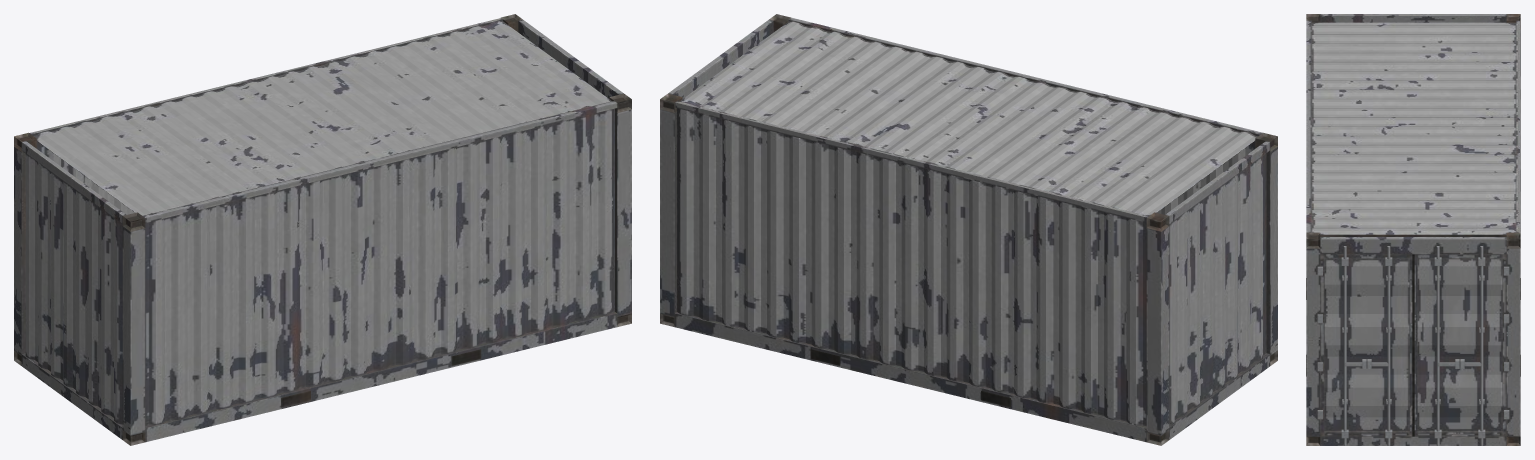
Rendered from container.glb.
The picture shows the model from 3 angles, left to right: view 1: azimuth 30°, elevation 25°; view 2: azimuth 150°, elevation 25°; view 3: azimuth 270°, elevation 25°; orthographic projection. The views are drawn at different scales.
Parts seen in each view (by area): view 1: shipping-container_body; view 2: shipping-container_body; view 3: shipping-container_body.
Boxes of the visible parts, x1=… form: shipping-container_body: x1=14, y1=14, x2=631, y2=445; shipping-container_body: x1=660, y1=14, x2=1277, y2=445; shipping-container_body: x1=1306, y1=14, x2=1520, y2=445.
Bounding box in the file's own units: 6.13 × 2.59 × 2.44.
1 material, 1 textured.
